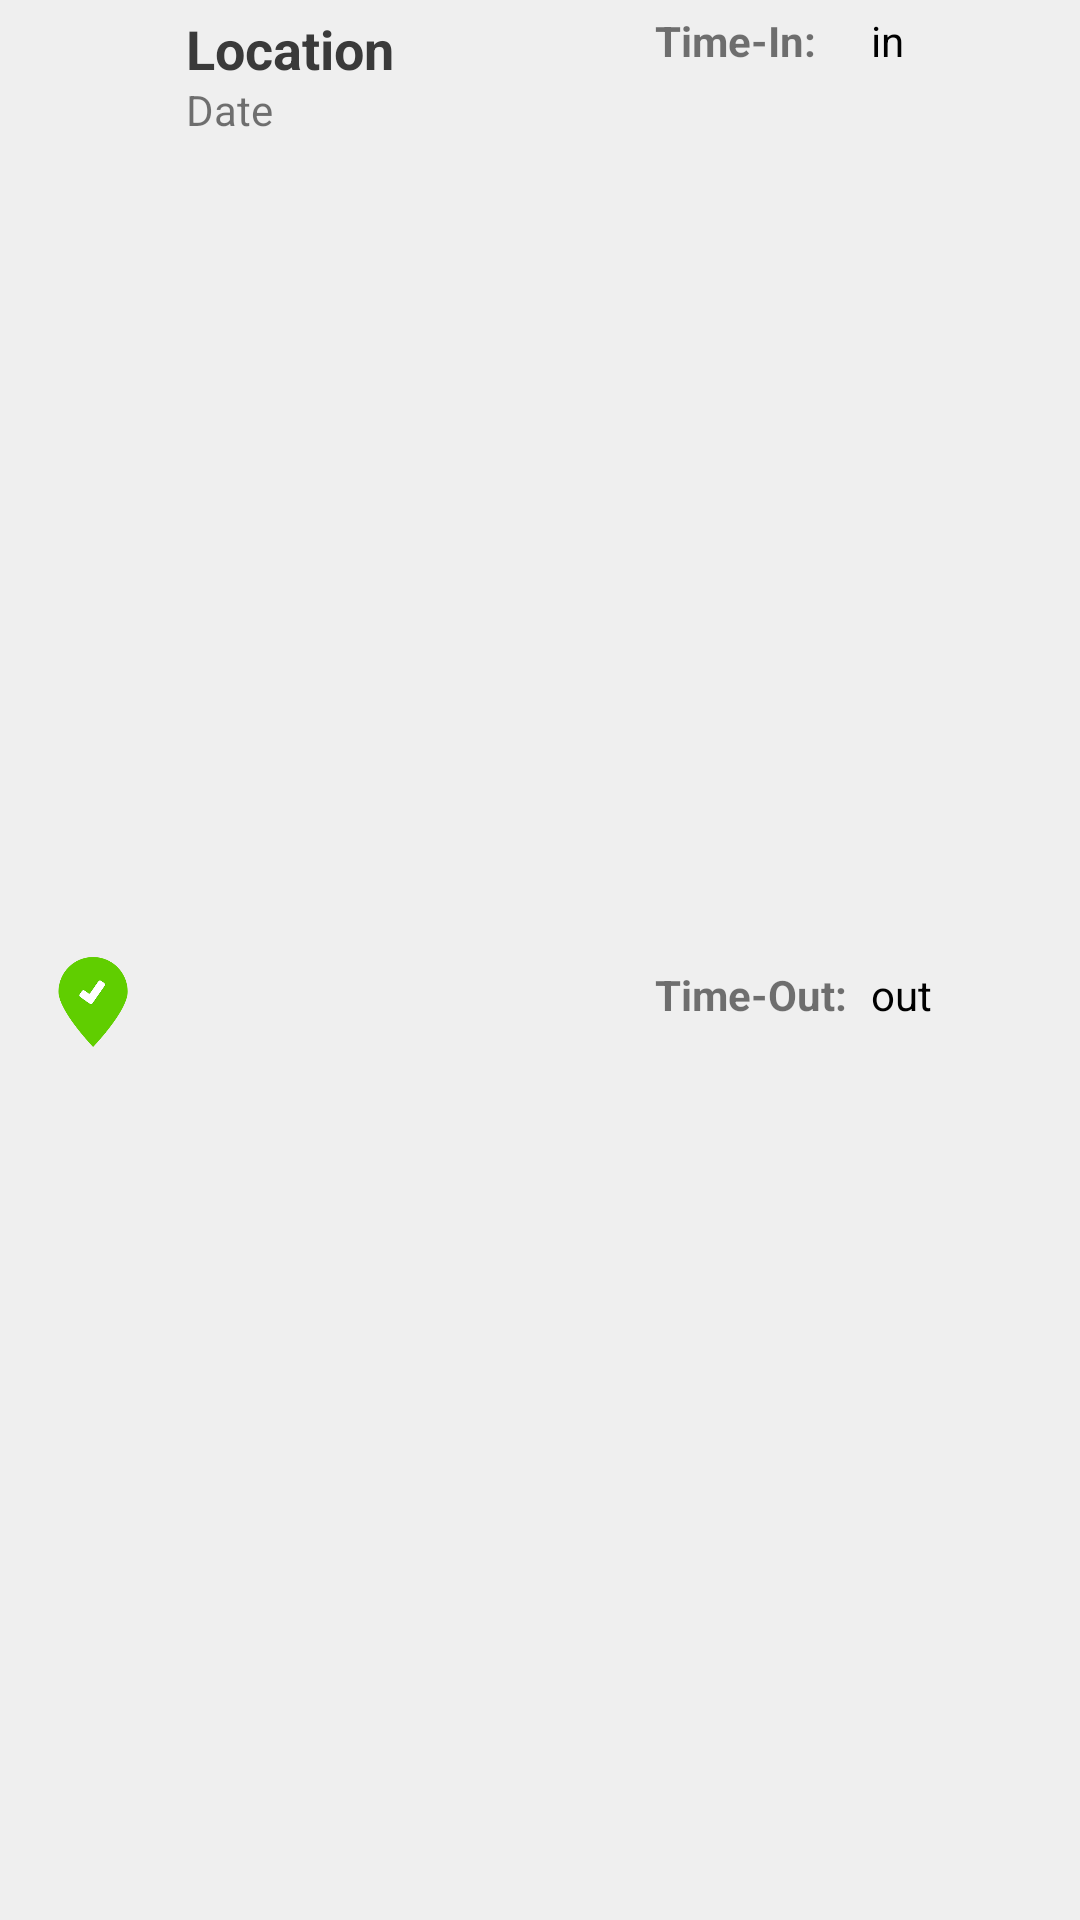

Named icons in this screenshot (1080 × 1920) and their centers, (x=x, y=y):
pinloc list: (x=93, y=1002)
